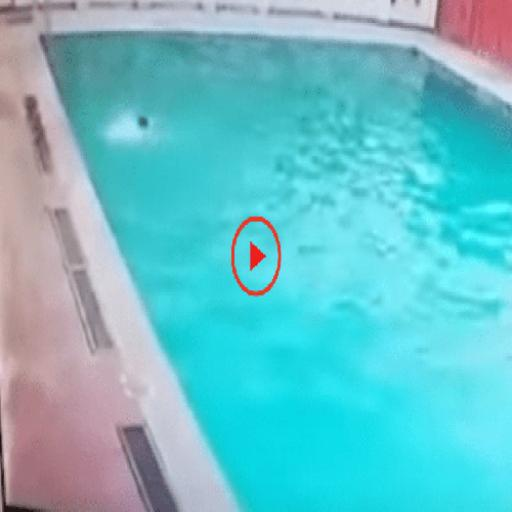swimming: (22, 90, 54, 177)
